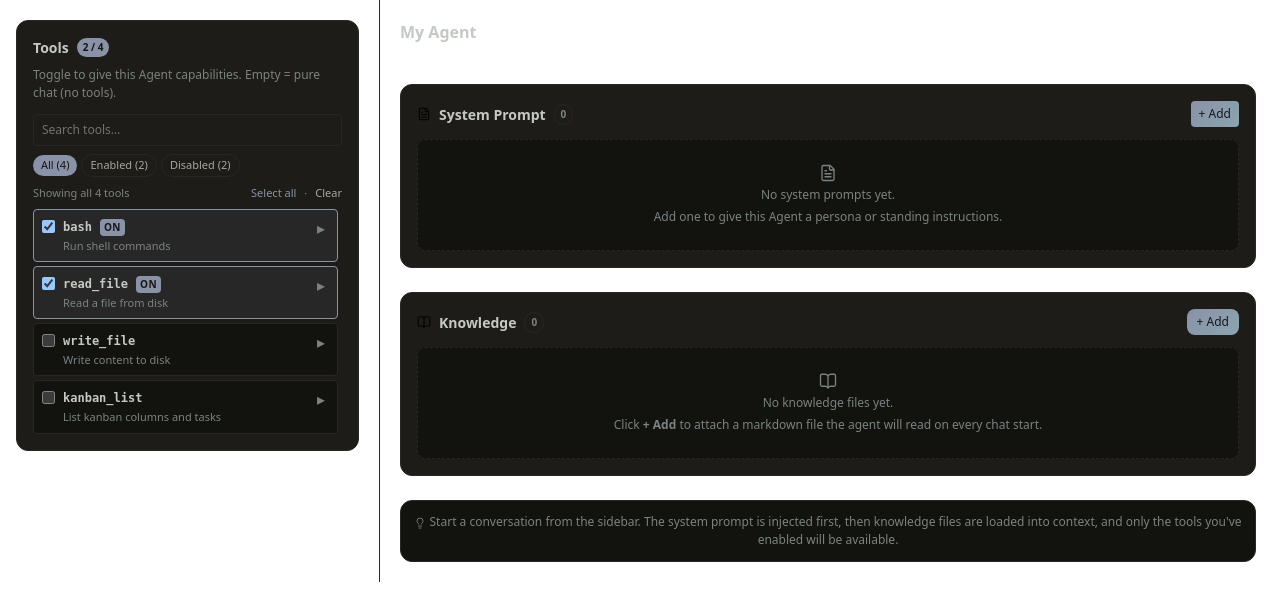
AgentView › enabled-state filter chips › Enabled chip narrows the list to enabled tools
Click the button with test id "agent-tools-filter-enabled".
click(119, 165)  # box [82,154,157,176]
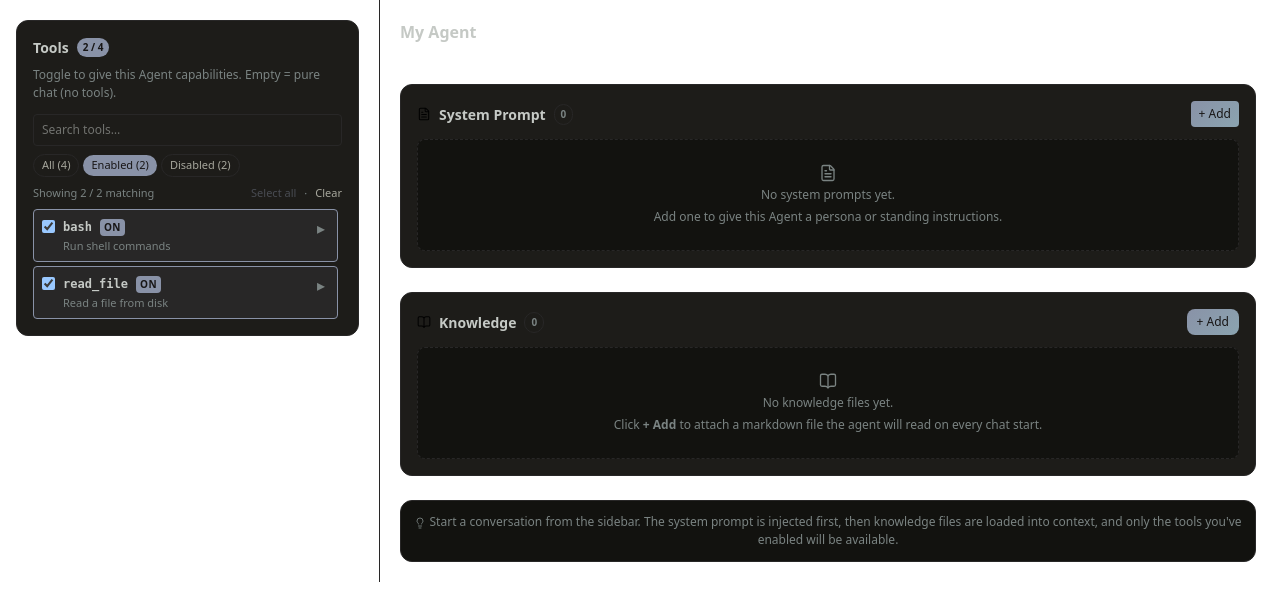
Expected: the text "bash" is shown, [63,218,92,236]
Expected: the number of list items with test id "agent-tool-item" is 2, [33,209,338,262]; [33,266,338,319]
Expected: the text "write_file" is gone
